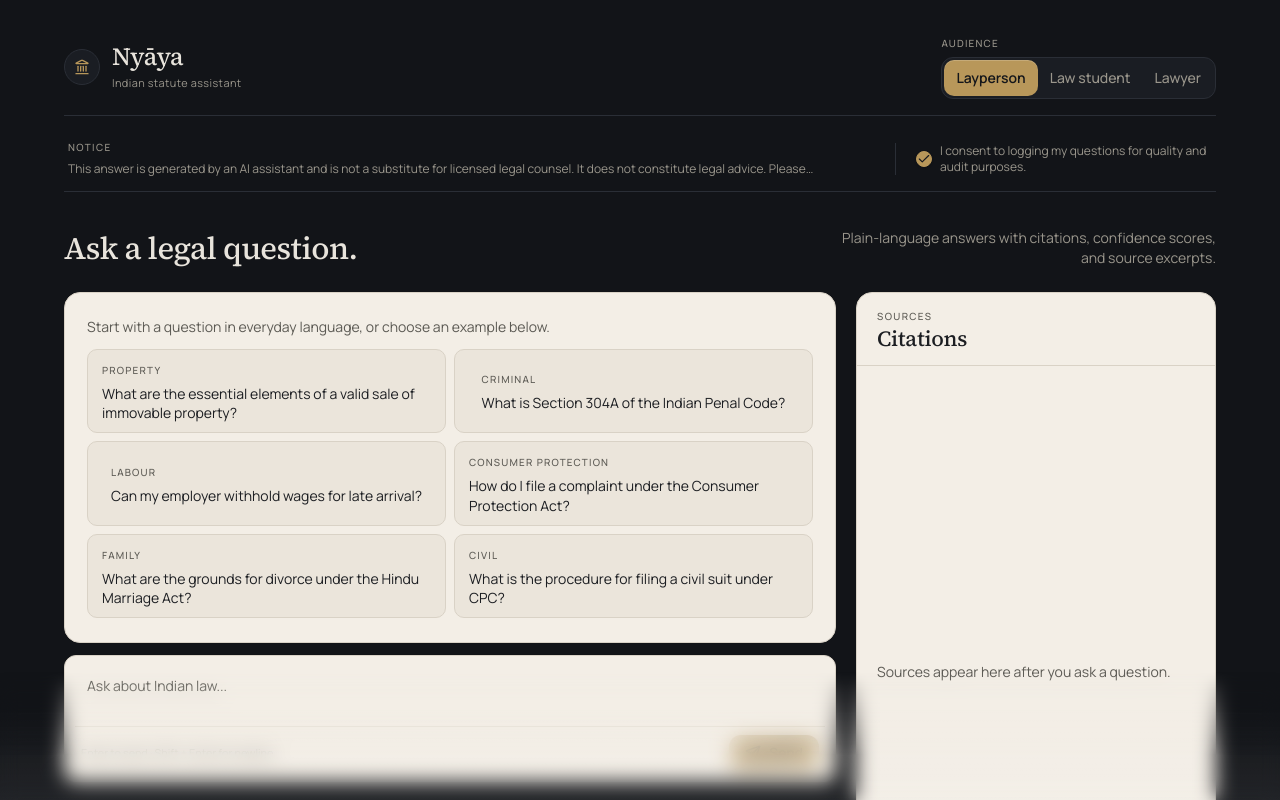
Test case: ChatWindow backend wiring › surfaces backend errors visibly
Type "What is theft?" into the text box named "Your message". click: (450, 694)
box: [75,666,825,722]
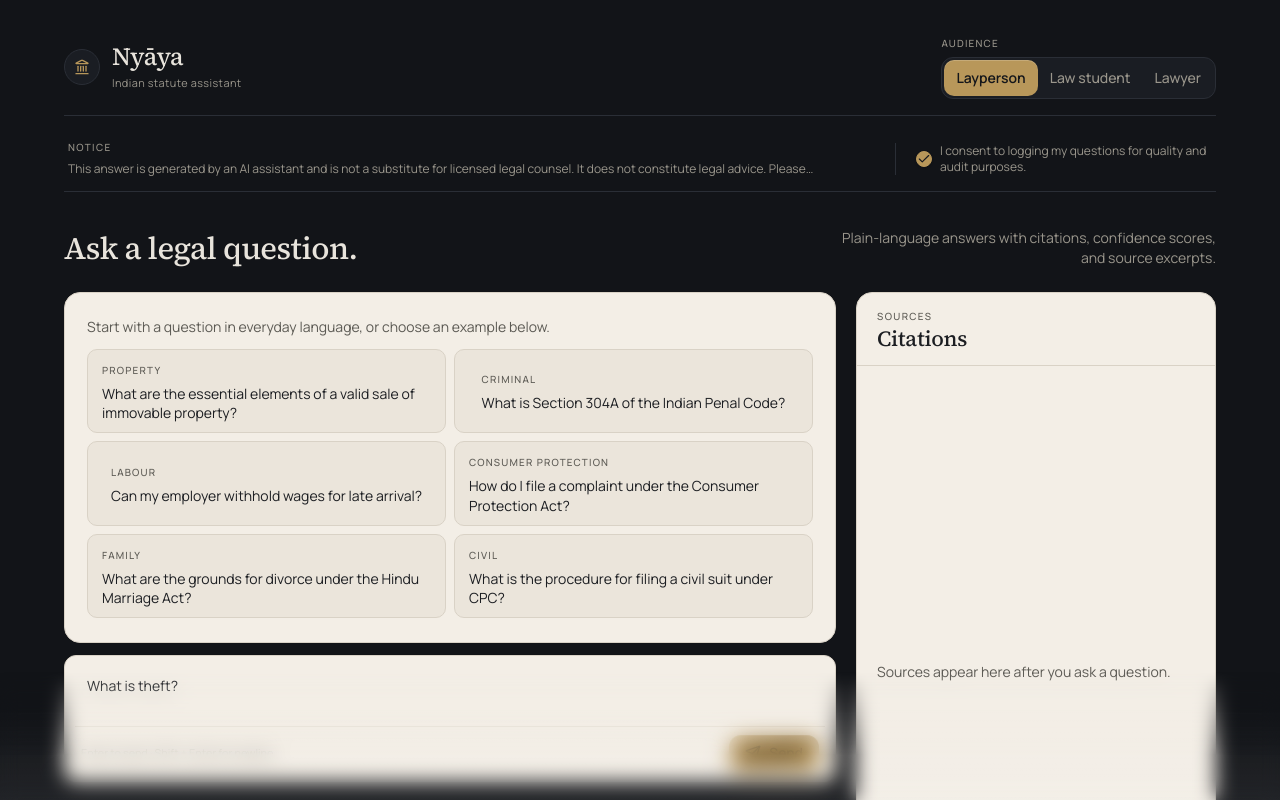
Click the button "Send". click: (774, 753)
box: [729,735,819,771]
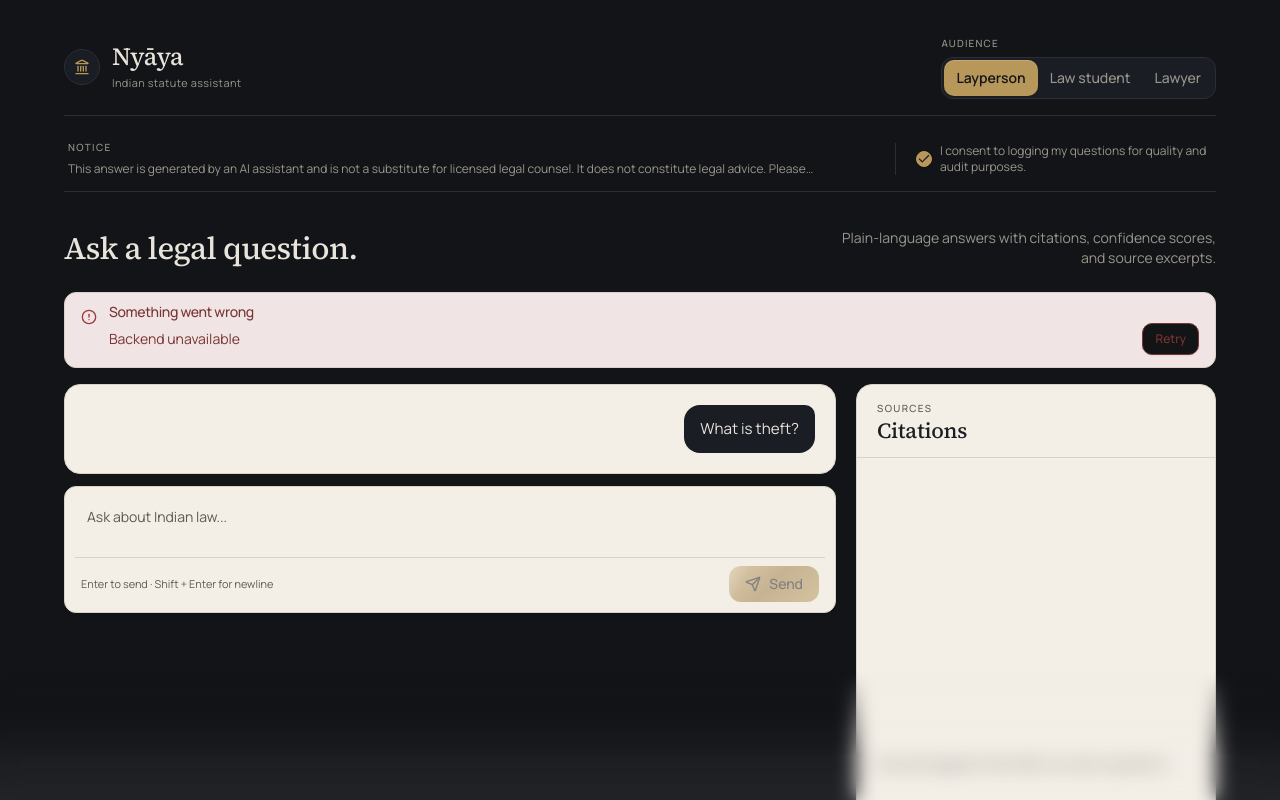
Now the message with test id "chat-error" shows "Backend unavailable", box [109,329,240,348]
